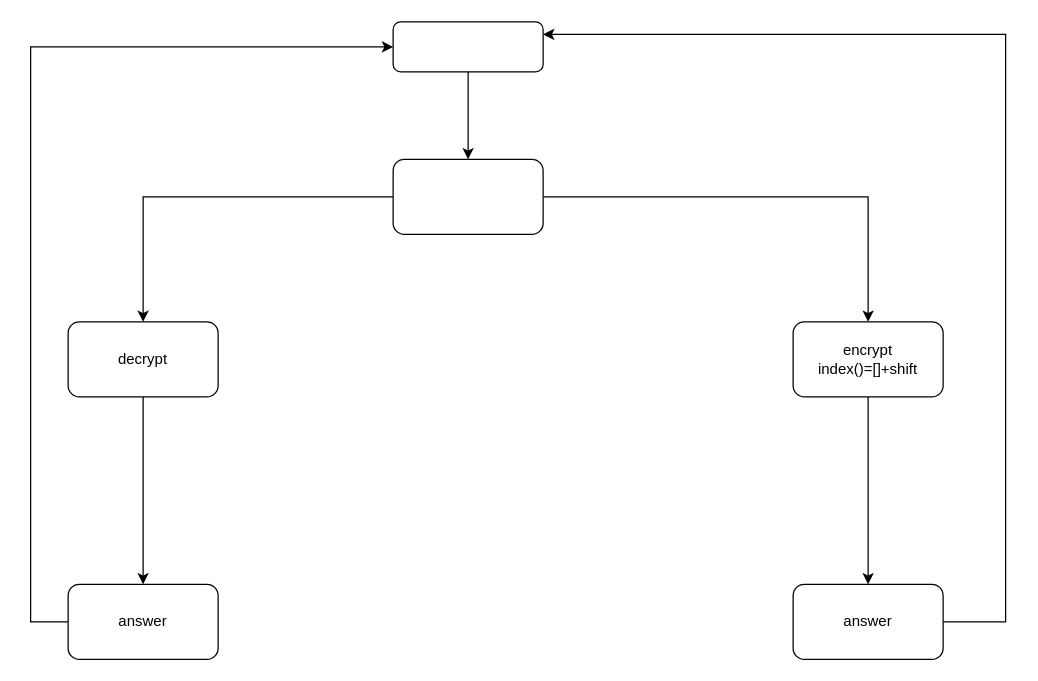
Image size: 1038x681. Some labels were removed from this diagram. The shapes that lost their labels are listed below. From the top down, each one's centre as x and y in pixels, then its label:
(467,46): start
(467,196): input encrypt or decrypt input mesasge input shift
